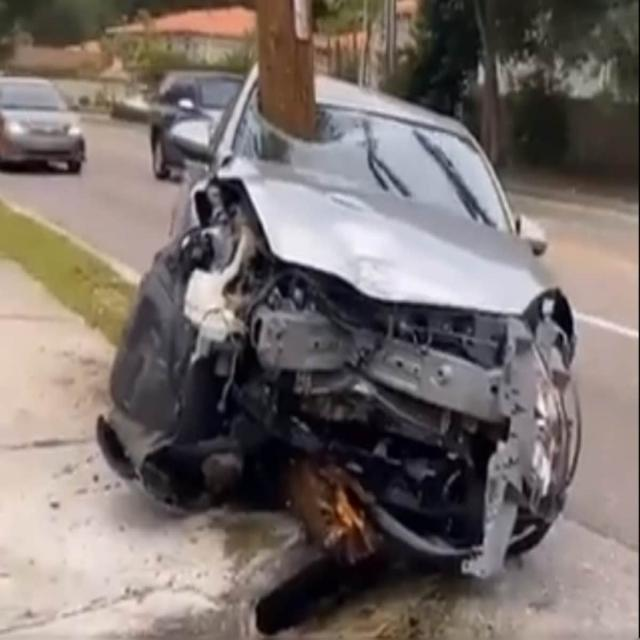crush: (95, 175, 581, 579)
